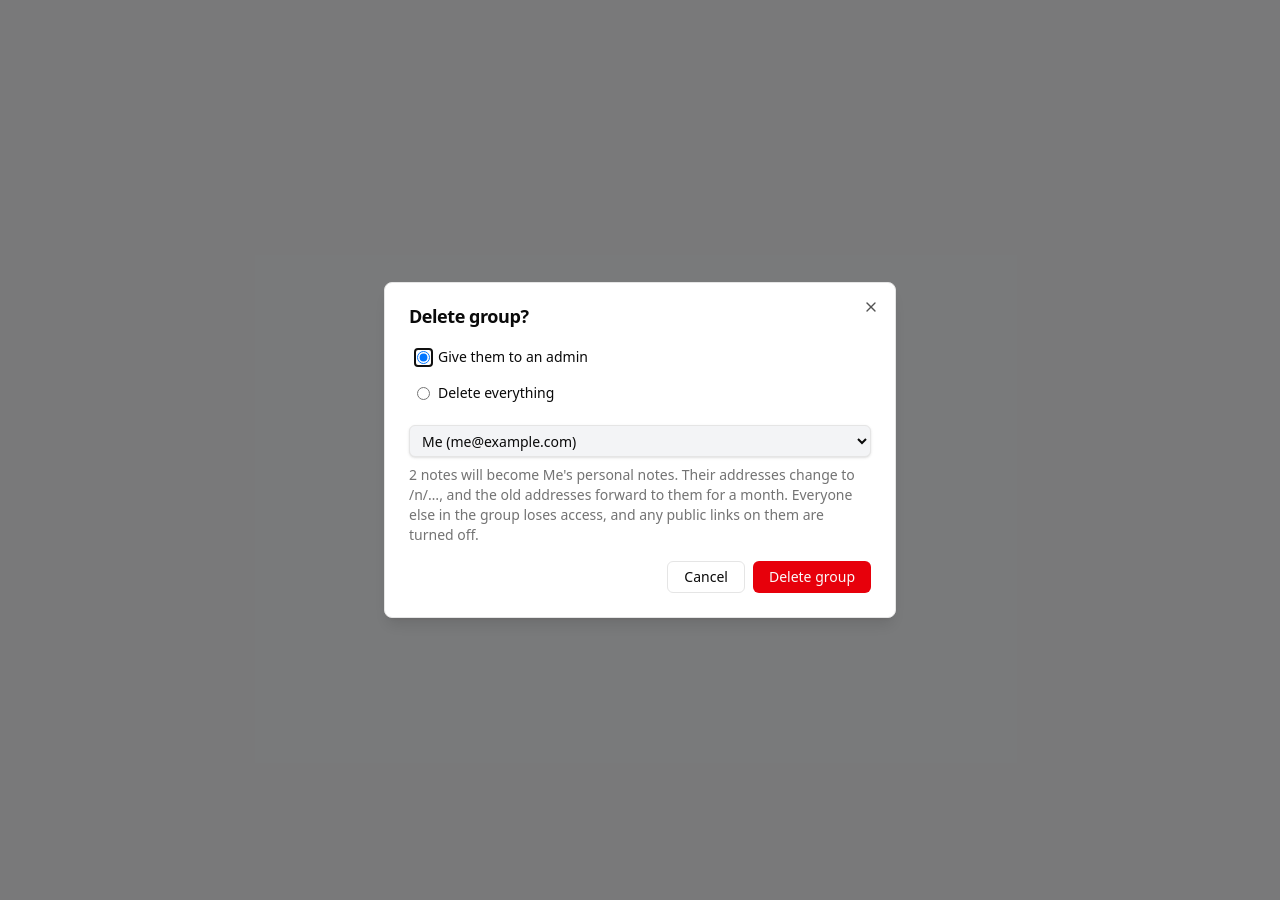
Scenario: DeleteGroupDialog（#175 PR4，spec §8.6） › 404 not_found → toast、對話框留著
Click the button "Delete group" at (812, 577), box [753,561,871,593]
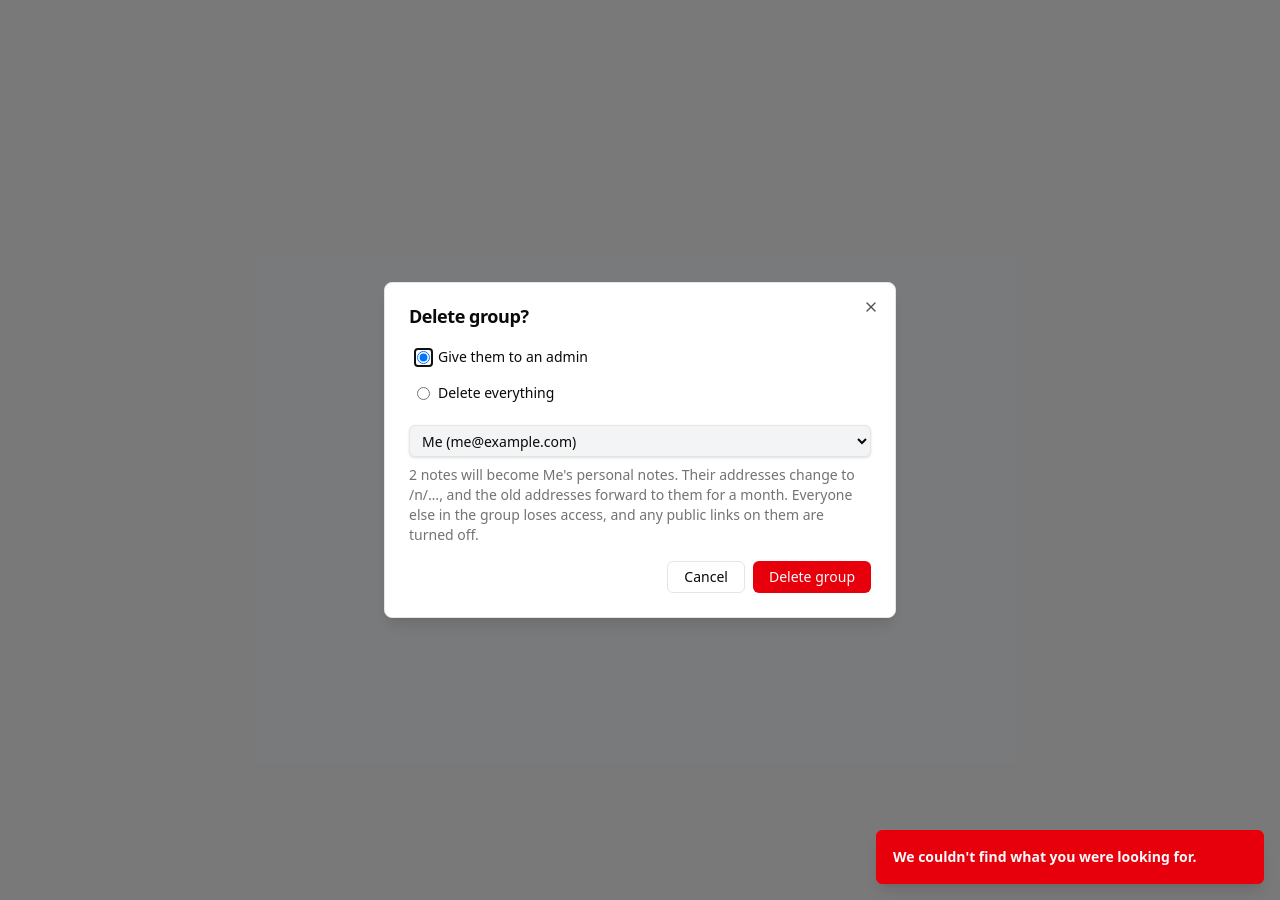
Expected: the dialog "Delete group?" is shown, [384,282,896,618]
Now the text "We couldn't find what you were looking for." is shown, box [893,847,1197,867]
